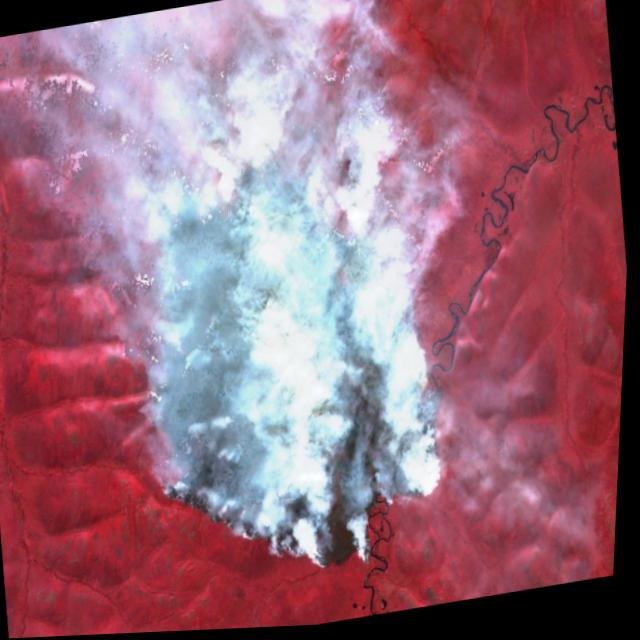fire: (108, 123, 479, 609)
